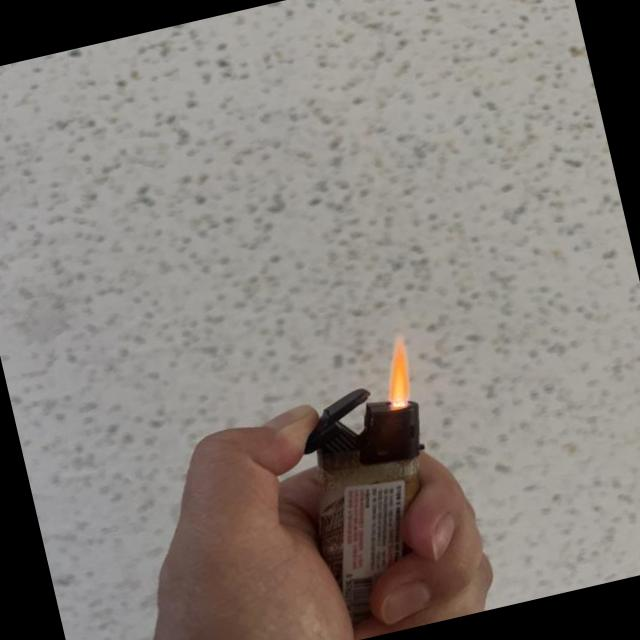Fire: (372, 330, 420, 402)
